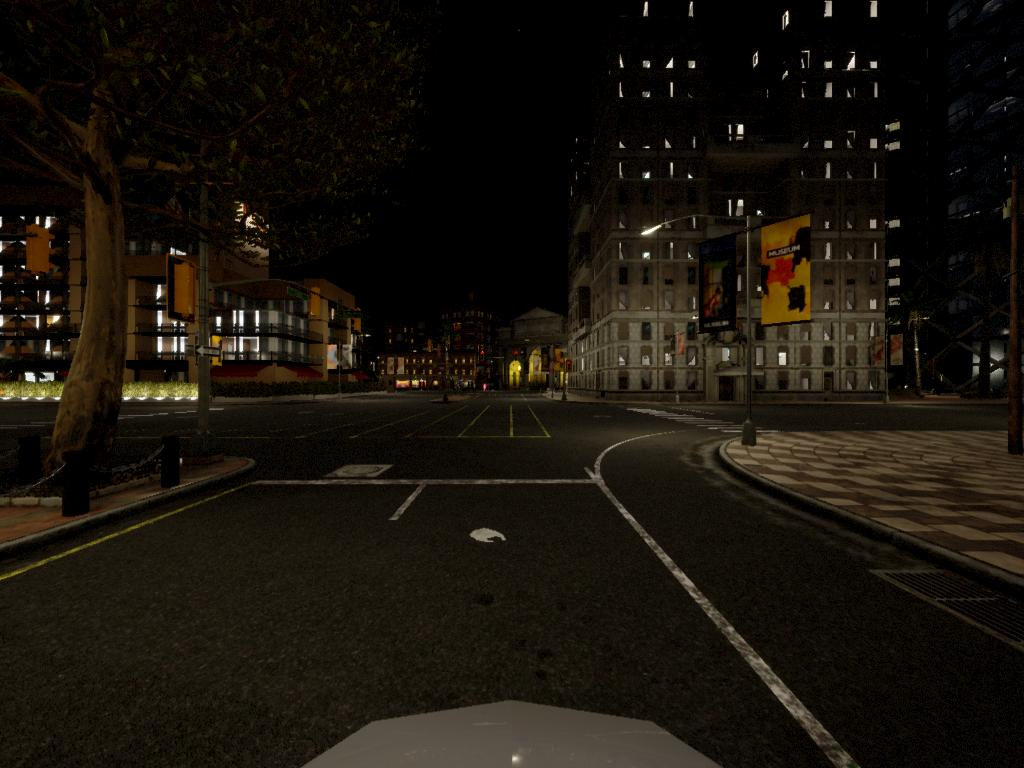traffic_light: (567, 360, 573, 373), (480, 351, 486, 362), (514, 351, 519, 361)
